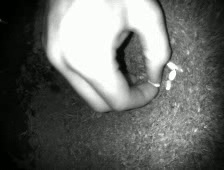corn: (165, 59, 180, 72), (145, 78, 161, 89), (166, 67, 178, 81), (163, 78, 173, 91), (175, 62, 185, 74)
